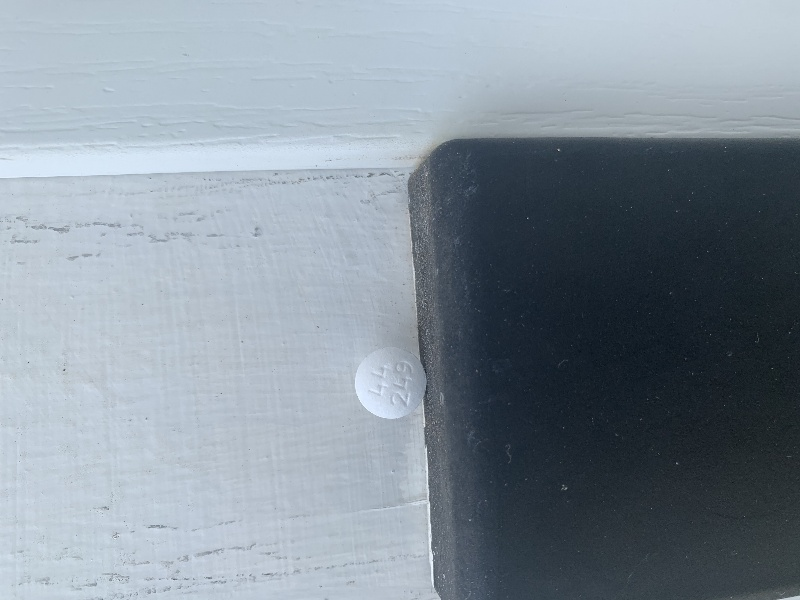Aspirin: (352, 345, 431, 421)
